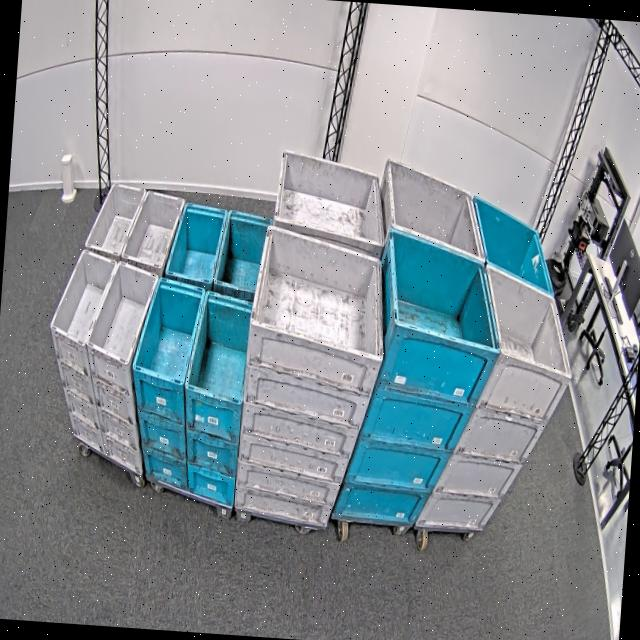Roll3G: (245, 220, 394, 362), (268, 146, 392, 249)
Roll4G: (474, 260, 582, 383), (379, 154, 492, 266)
Roll8G: (46, 244, 163, 368), (81, 174, 186, 270)
RollB4: (383, 226, 508, 356), (466, 193, 560, 298)
RollB8: (127, 276, 255, 409), (160, 196, 274, 298)
